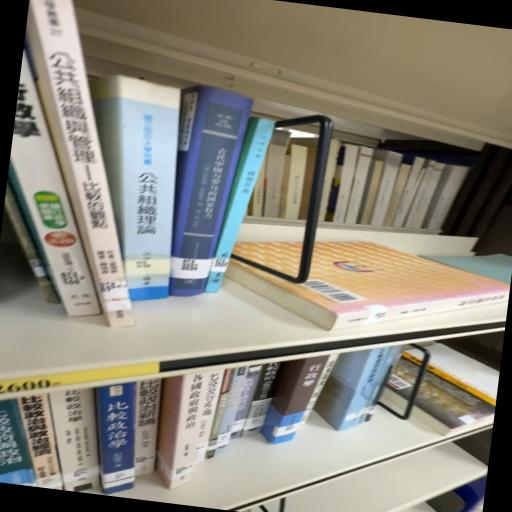flat: (214, 241, 510, 332)
